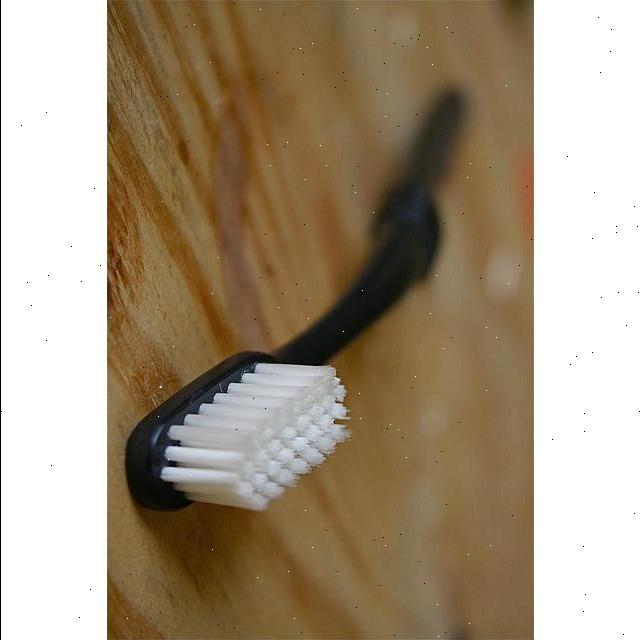toothbrush: (123, 99, 464, 514)
